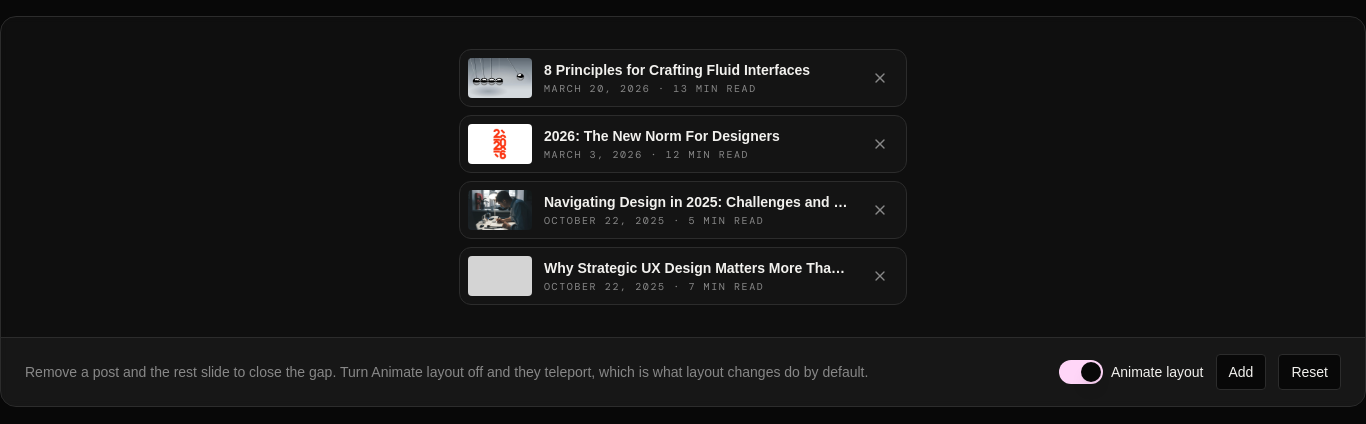
Scenario: Fluid-interfaces demos › removes, re-adds and resets blog rows
Click the button named "Remove " at (880, 78), box [862,60,898,96]
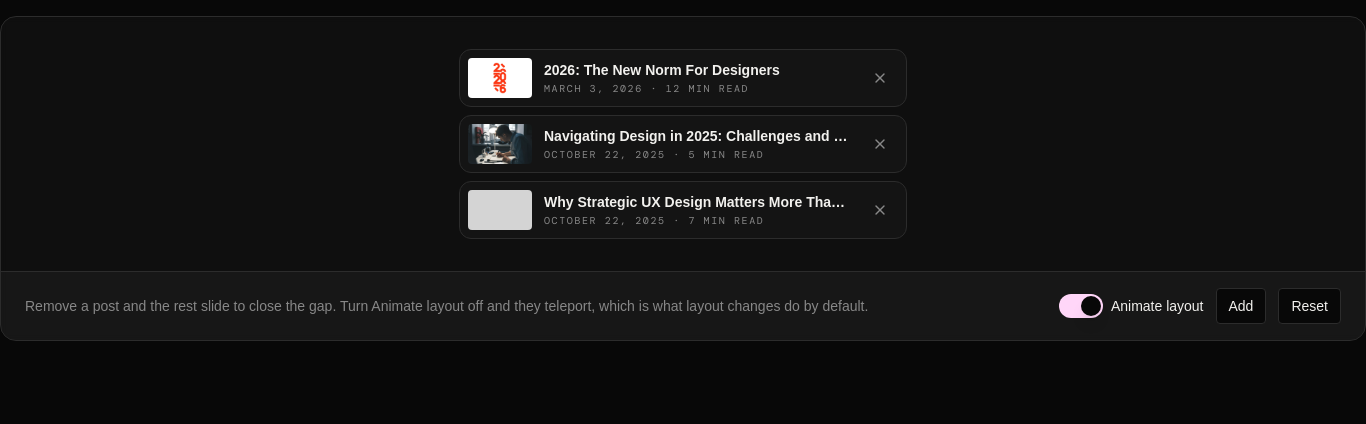
expect the number of buttons named "Remove " is 3: met, box [862,60,898,96]; [862,126,898,162]; [862,192,898,228]
Click the button "Add" at (1241, 306), box [1216,288,1266,324]
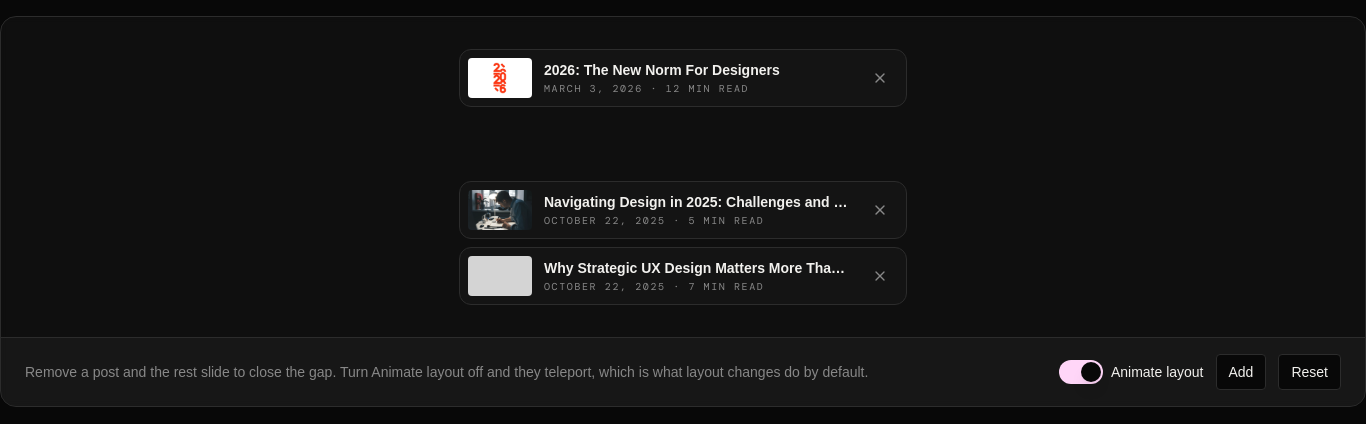
expect the number of buttons named "Remove " is 4: met
Click the button "Reset" at (1310, 372), box [1278,354,1341,390]
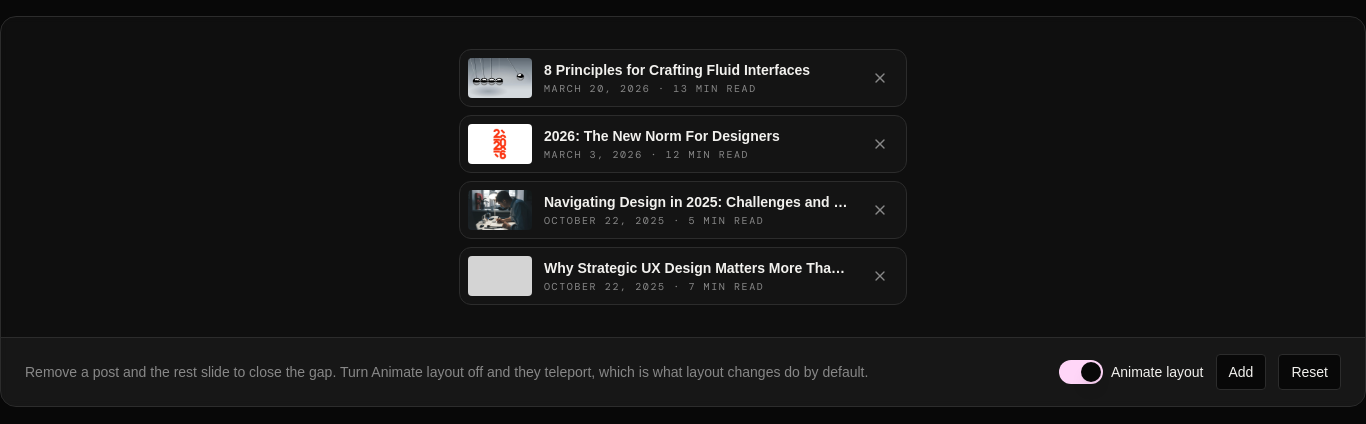
expect the number of buttons named "Remove " is 4: met, box [862,60,898,96]; [862,126,898,162]; [862,192,898,228]; [862,258,898,294]
